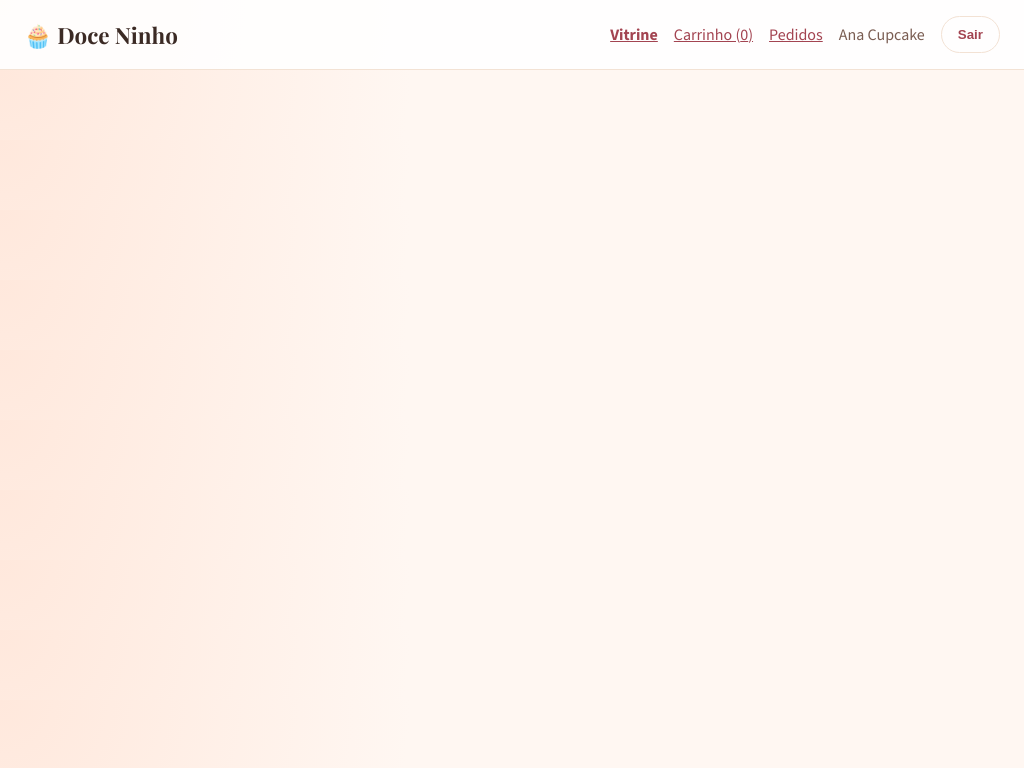
Test: Navbar › sai da conta ao clicar em Sair
Expected: the text "Ana Cupcake" is shown, [839, 24, 925, 45]
Click the button "Sair". click: [970, 34]
box: [941, 16, 1000, 53]
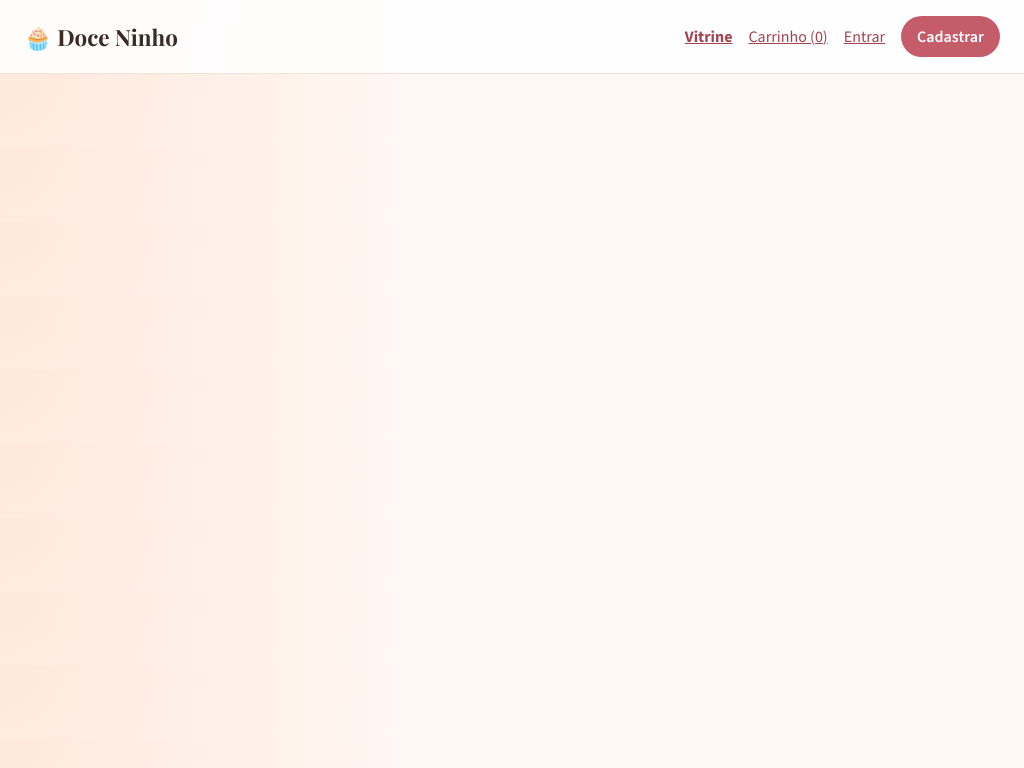
Expected: the link "Entrar" is shown, [844, 26, 885, 47]
